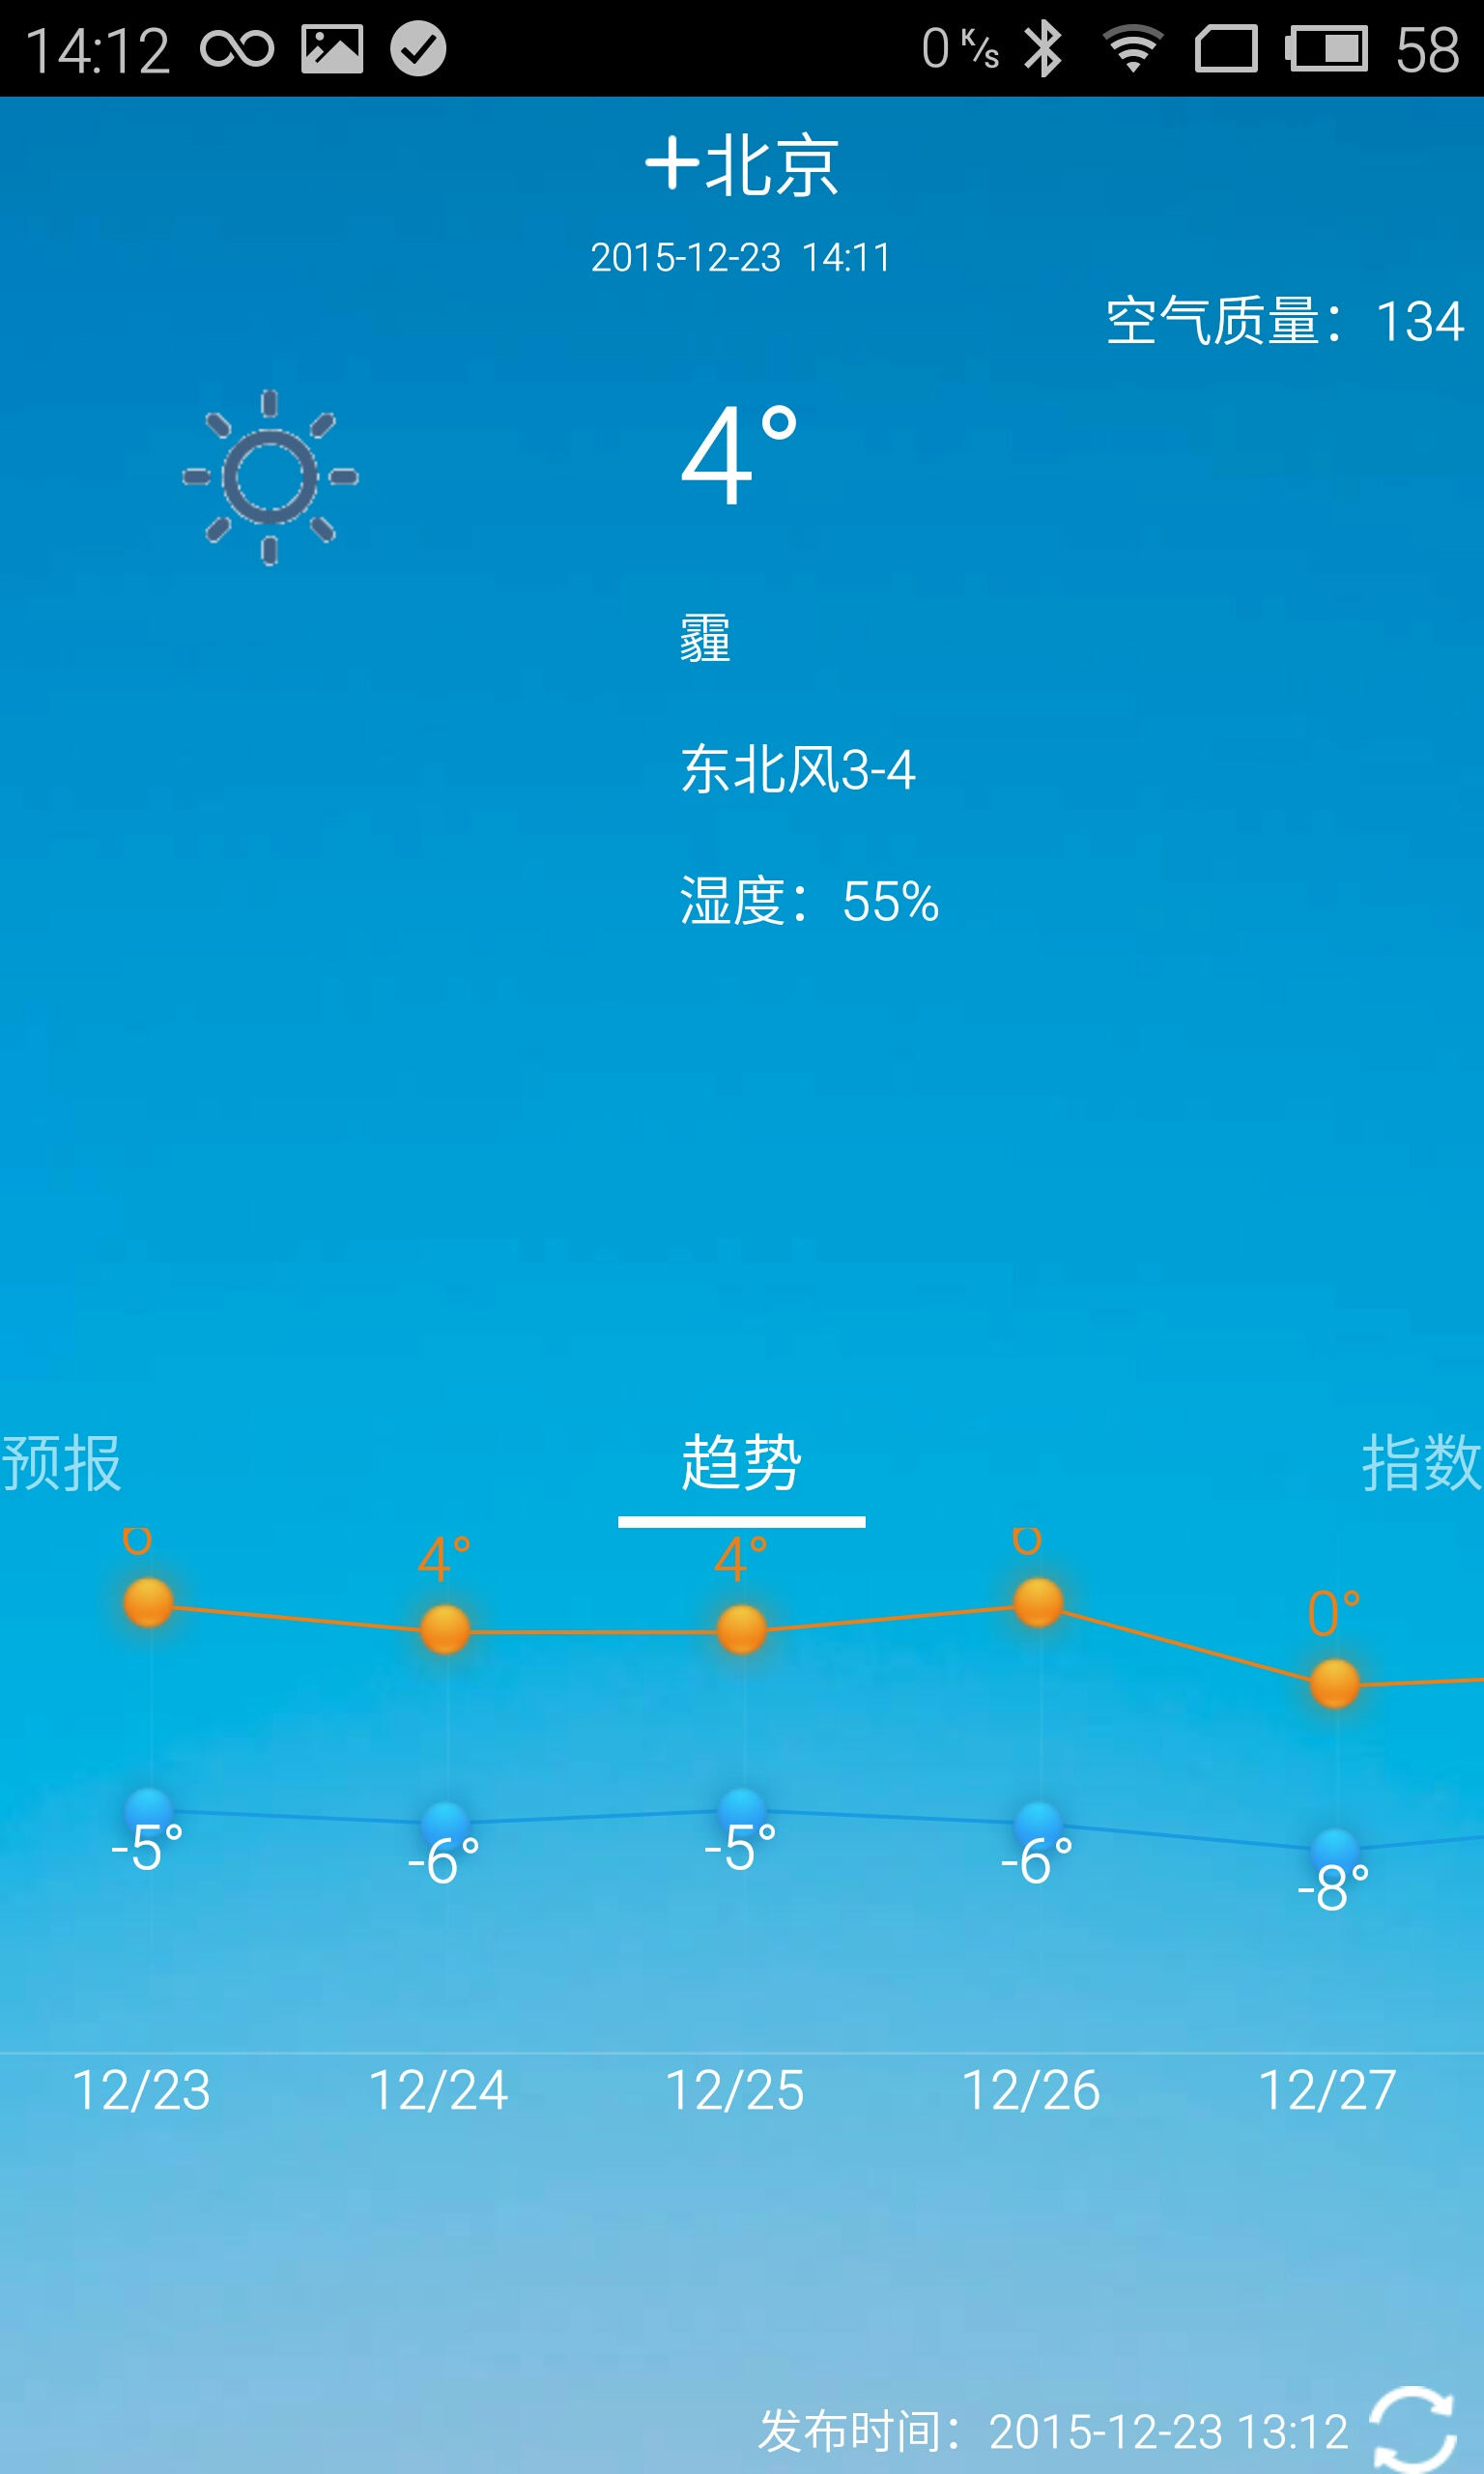textview: (35, 2027, 1484, 2140)
